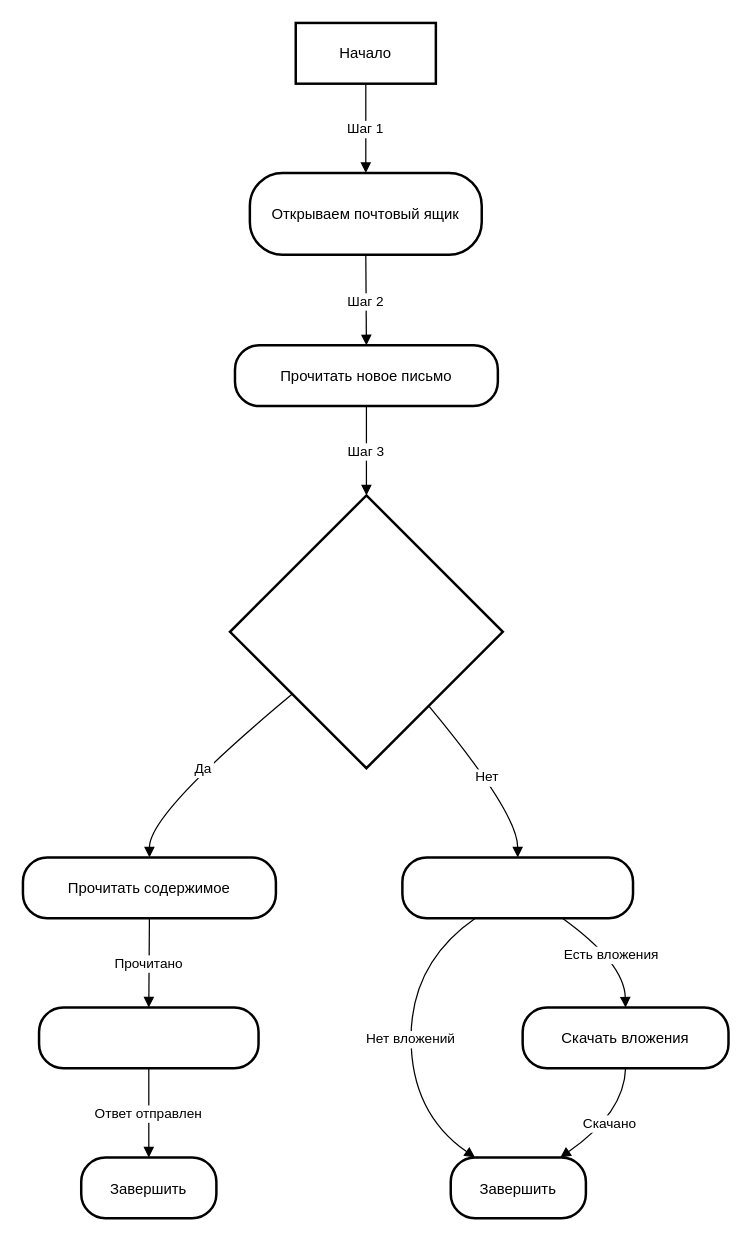
The diagram is 750 pixels wide and 1240 high, and some of its shapes have lost their labels. Each missing label, with the centre of its shape:
"Ответить на письмо" belongs at point 148,1037.
"Отправитель известен?" belongs at point 365,631.
"Проверить вложения" belongs at point 517,887.
